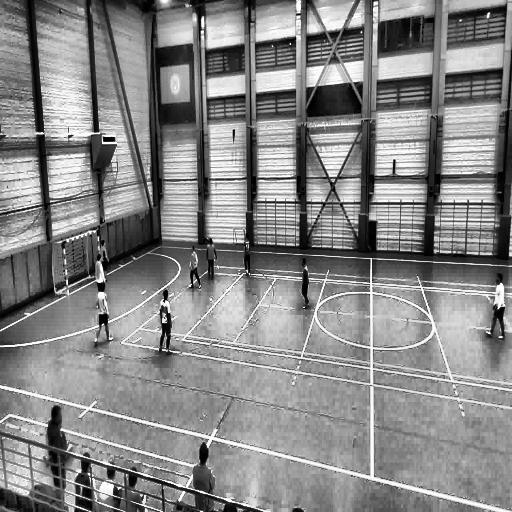player: (46, 406, 70, 506), (484, 270, 505, 342), (94, 282, 114, 346), (158, 289, 174, 354), (188, 244, 202, 288), (300, 256, 310, 310), (94, 253, 106, 293), (206, 238, 216, 280), (243, 234, 252, 276), (100, 240, 109, 281)
